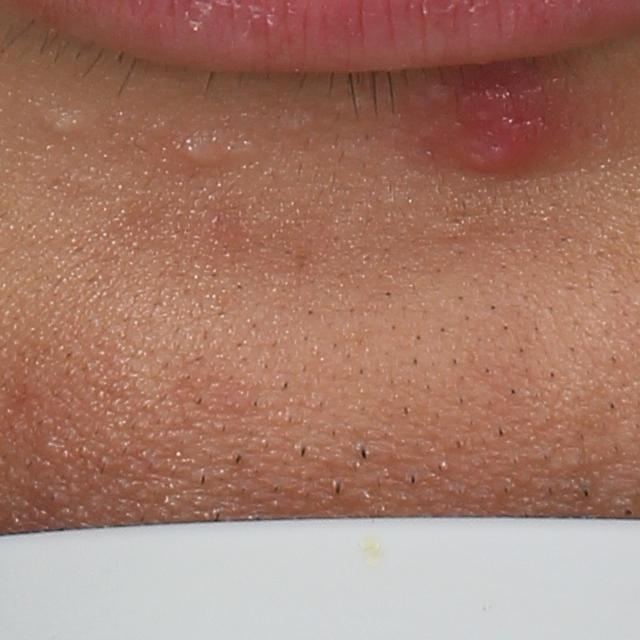hypertrophic_scar: (173, 132, 222, 174), (36, 103, 96, 136)
papule: (444, 69, 558, 184)
